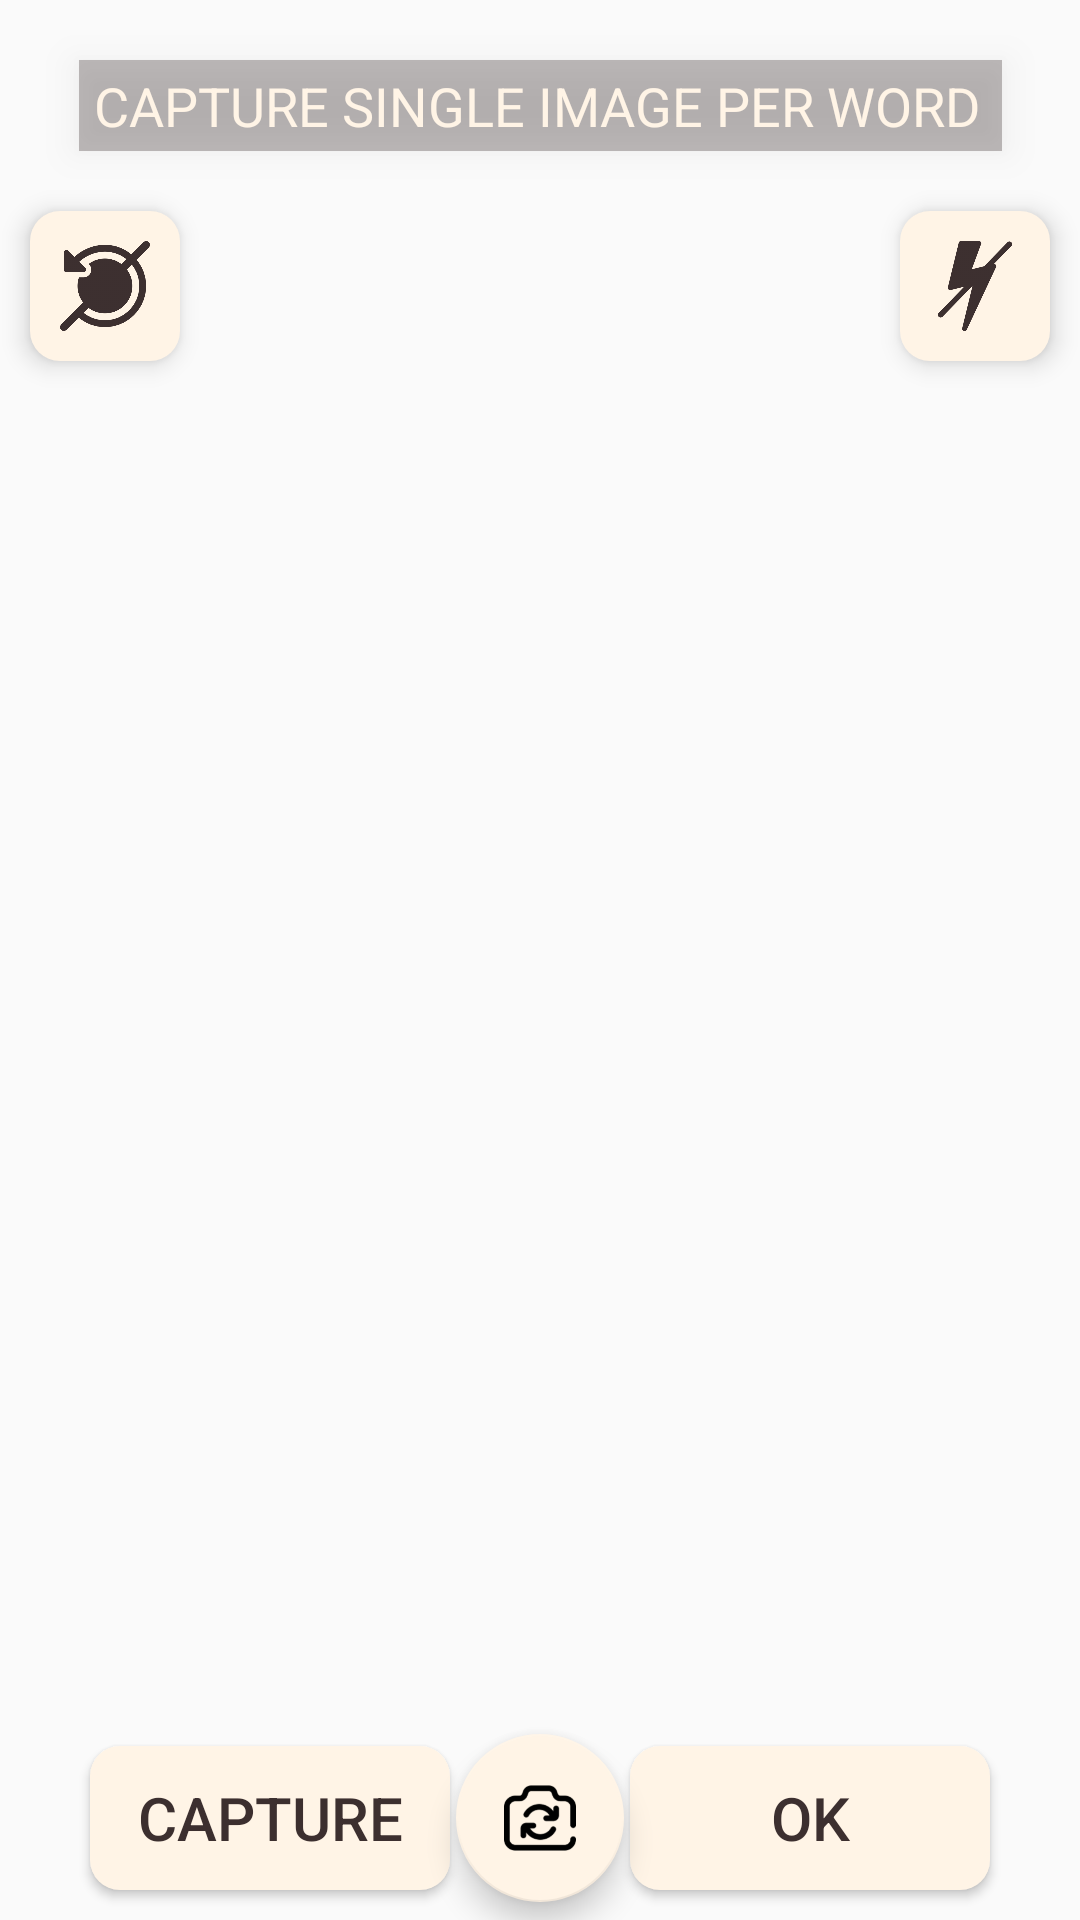

Icon click points for this 1080*1920 phone screenshot, format (x,y):
flashoff: (975,286)
switch camera: (540,1818)
timerno: (105,286)
